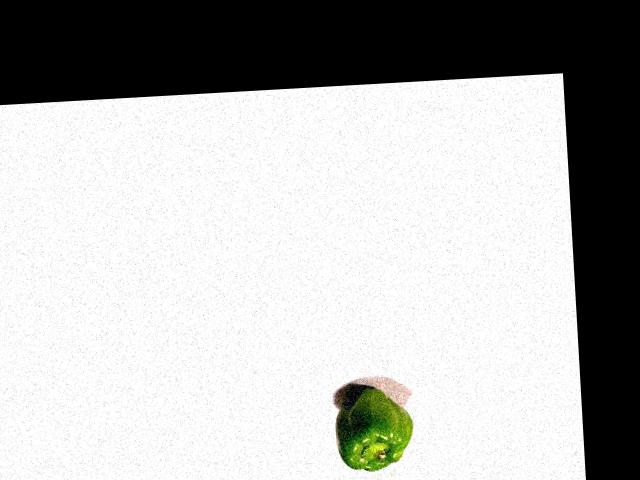bell_pepper: (331, 381, 418, 472)
